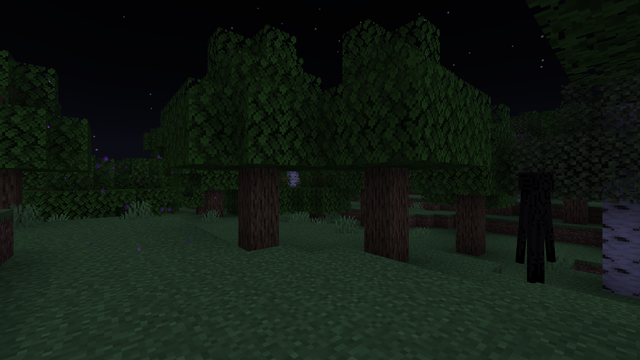endermens: (518, 168, 553, 288)
